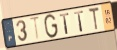3: (16, 19, 29, 43)
G: (43, 14, 59, 40)
T: (29, 15, 41, 42), (88, 6, 100, 31), (58, 12, 70, 36), (73, 10, 85, 33)
